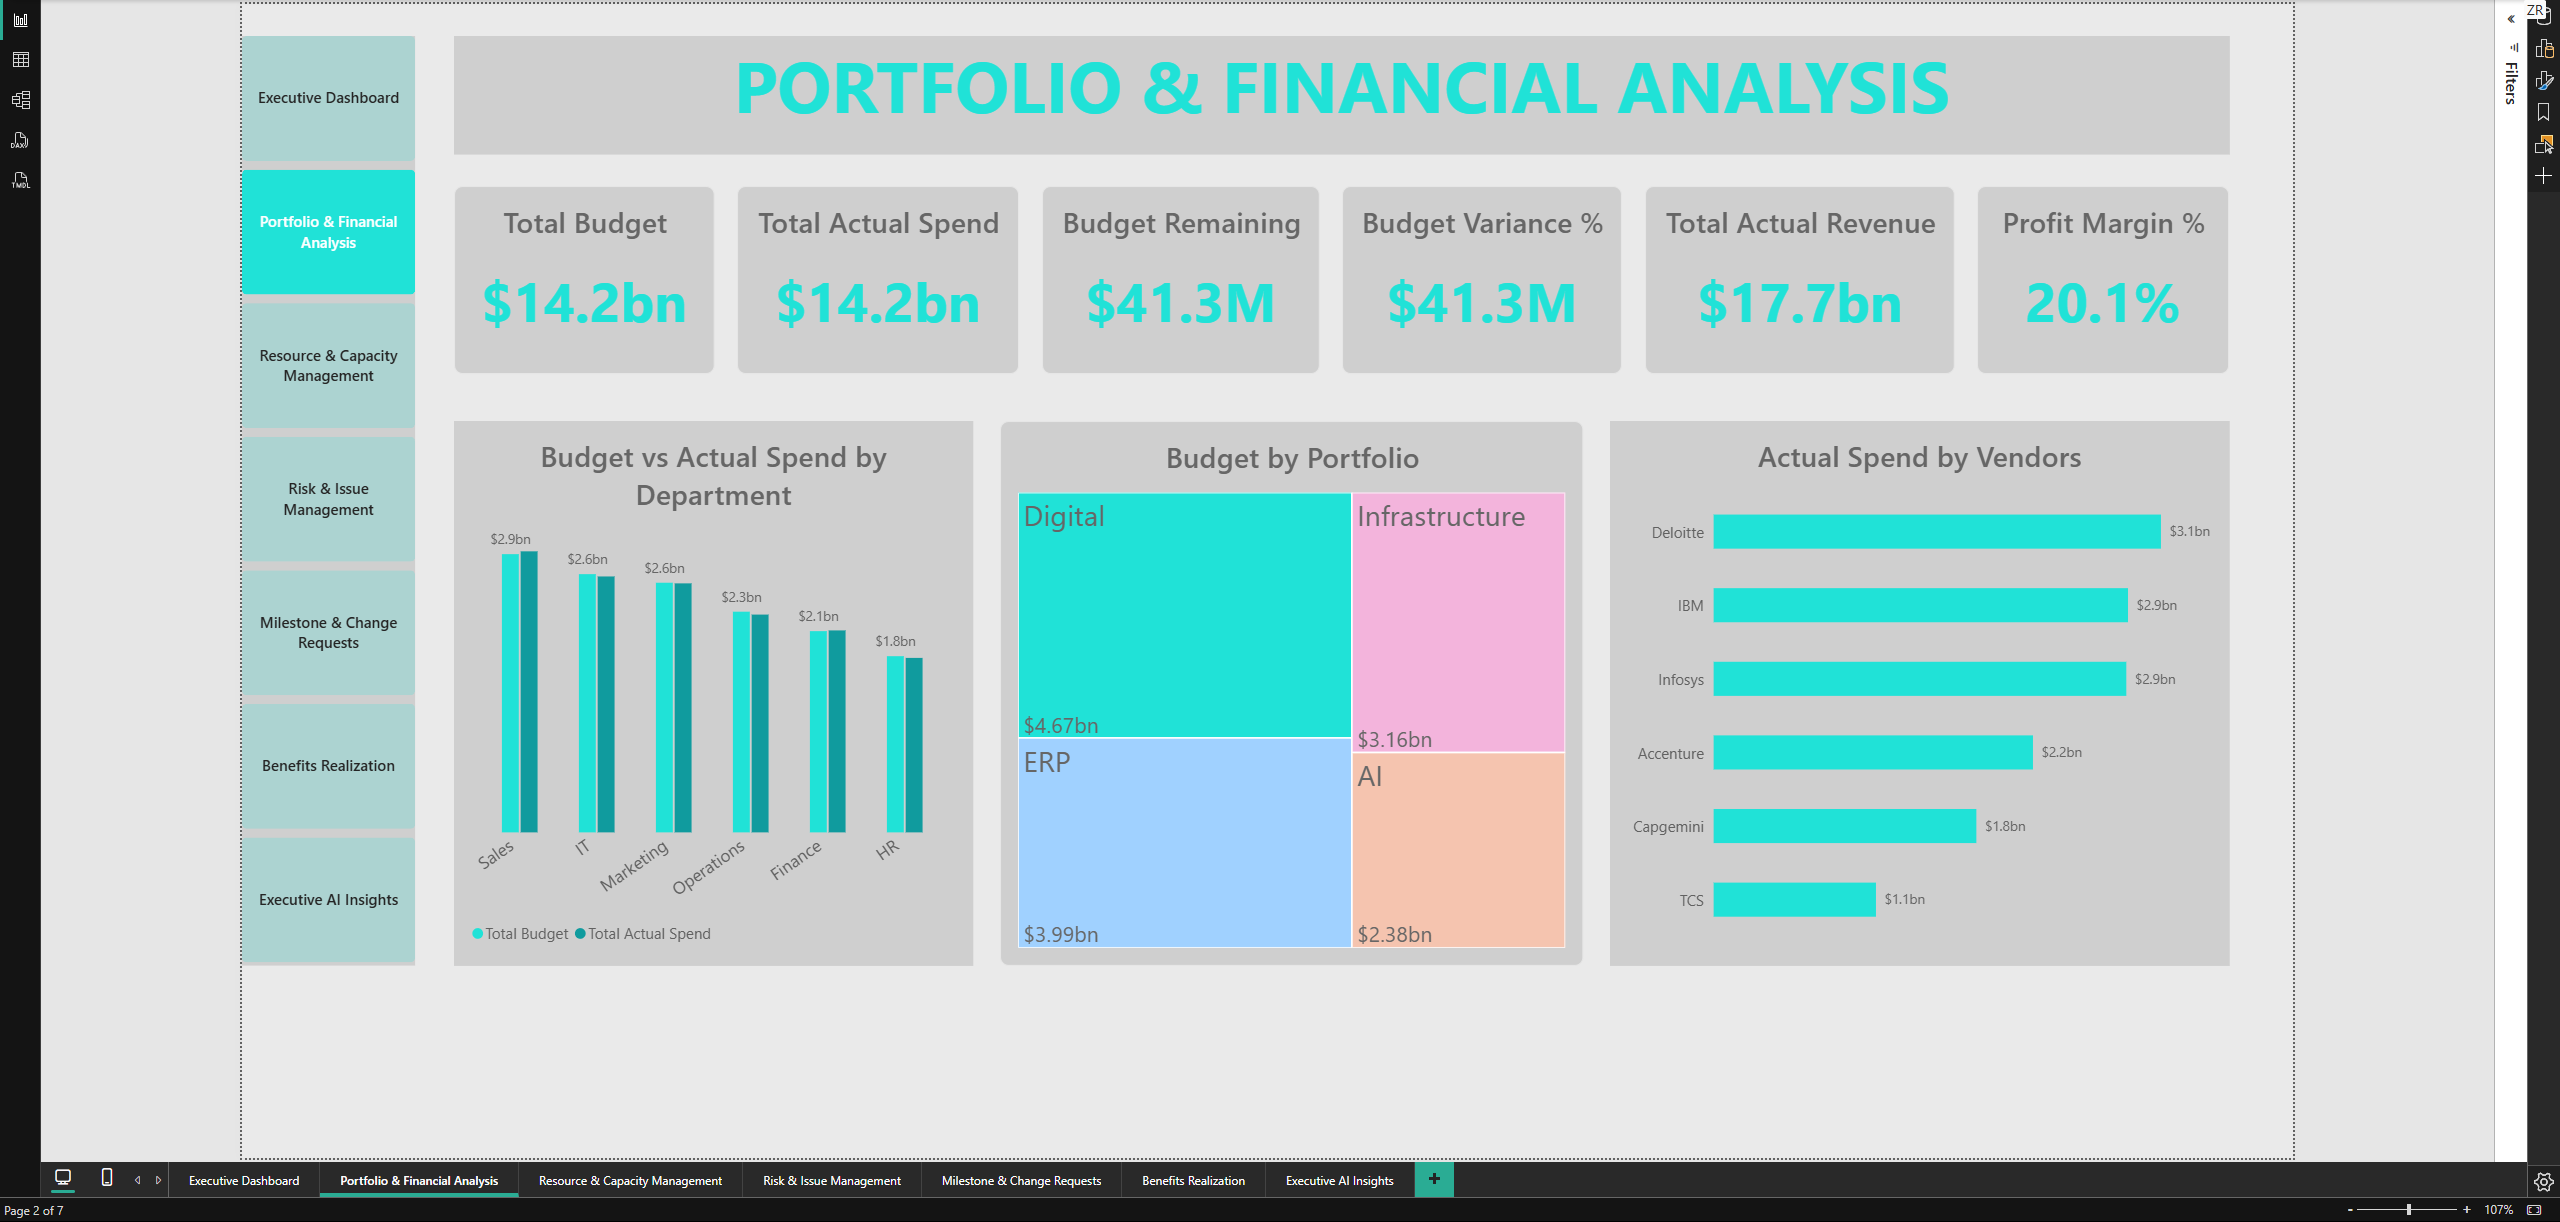

This screenshot's page, from the dashboard's own definition file:
{"tool":"powerbi","page":{"name":"Portfolio & Financial Analysis ","canvas":[1920,1080],"ordinal":1},"visuals":[{"type":"card","title":"Total Budget","fields":{"Values":["Measure Table.Total Budget"]},"box":[198,170,244,176],"z":0},{"type":"card","title":"Budget Variance %","fields":{"Values":["Measure Table.Budget Variance"]},"box":[1029.6,170,262,176],"z":1000},{"type":"card","title":"Profit Margin %","fields":{"Values":["Measure Table.Profit Margin %"]},"box":[1624,170,236,176],"z":2000},{"type":"textbox","title":"PORTFOLIO & FINANCIAL  ANALYSIS","box":[198,30,1662,111],"z":3000},{"type":"clusteredColumnChart","title":"Budget vs Actual Spend by Department","fields":{"Category":["pmo projects.department"],"Y":["Measure Table.Total Budget","Measure Table.Total Actual Spend"]},"box":[198,390,486,510],"z":4000},{"type":"treemap","title":"Budget by Portfolio","fields":{"Group":["pmo projects.portfolio"],"Values":["Measure Table.Total Budget"]},"box":[709,390,546,510],"z":5000},{"type":"barChart","title":"Actual Spend by Vendors","fields":{"Category":["pmo projects.vendor"],"Y":["Measure Table.Total Actual Spend"]},"box":[1280,390,580,510],"z":6000},{"type":"card","title":"Budget Remaining","fields":{"Values":["Measure Table.Budget Remaining"]},"box":[748.4,170,260,176],"z":7000},{"type":"card","title":"Total Actual Revenue","fields":{"Values":["Measure Table.Total Actual Revenue"]},"box":[1312.8,170,290,176],"z":8000},{"type":"card","title":"Total Actual Spend","fields":{"Values":["Measure Table.Total Actual Spend"]},"box":[463.2,170,264,176],"z":9000},{"type":"pageNavigator","box":[0,30,162,870],"z":10000}]}

Visuals, with their boxes on the page's 1920x1080 design canvas (x1, y1, x2, y2). These are canvas units, not pixel positions in the 2560x1222 screenshot, which may show the page scaled, cropped or inside an application window:
"Total Budget" card: (198,170,442,346)
"Budget Variance %" card: (1030,170,1292,346)
"Profit Margin %" card: (1624,170,1860,346)
"PORTFOLIO & FINANCIAL  ANALYSIS" textbox: (198,30,1860,141)
"Budget vs Actual Spend by Department" clusteredColumnChart: (198,390,684,900)
"Budget by Portfolio" treemap: (709,390,1255,900)
"Actual Spend by Vendors" barChart: (1280,390,1860,900)
"Budget Remaining" card: (748,170,1008,346)
"Total Actual Revenue" card: (1313,170,1603,346)
"Total Actual Spend" card: (463,170,727,346)
pageNavigator: (0,30,162,900)
